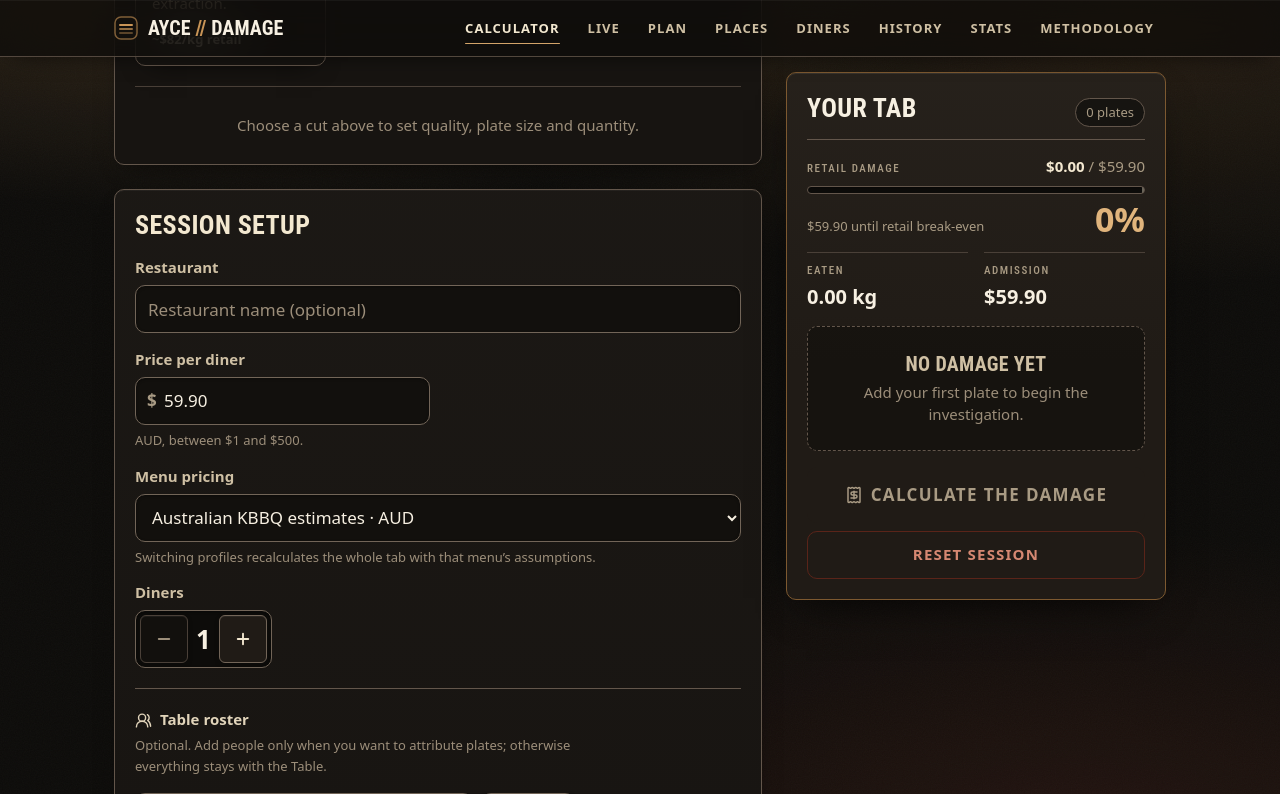
Test: CalculatorApp › clamps an absurd price rather than poisoning totals
The width and height of the screenshot is (1280, 794).
(page scrolled)
Replace the text in the number field labelled "Price per diner" with "99999": {"x": 282, "y": 401} x1=135 y1=377 x2=430 y2=425
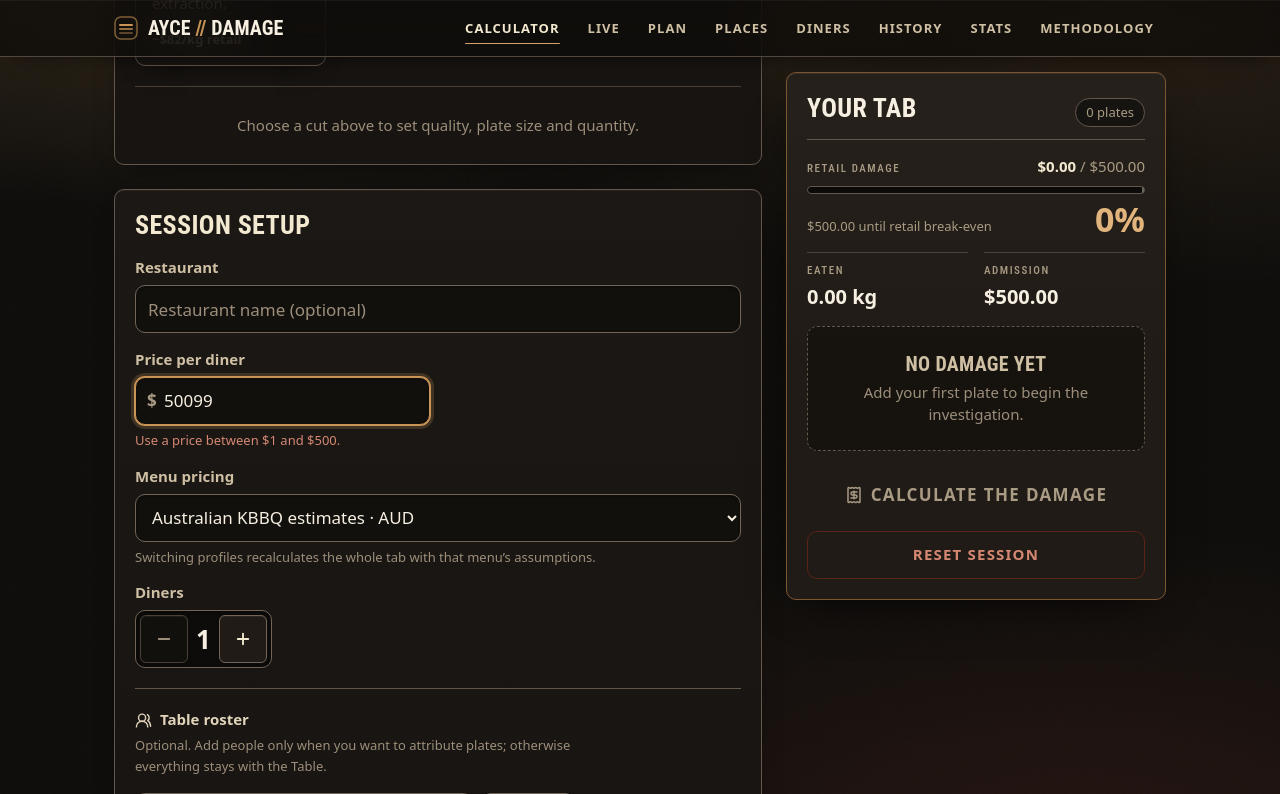
Check: the text "Use a price between $1 and $500." is shown, box x1=135 y1=431 x2=340 y2=449
